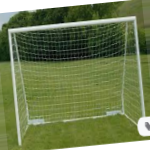goals: (6, 15, 146, 146)
